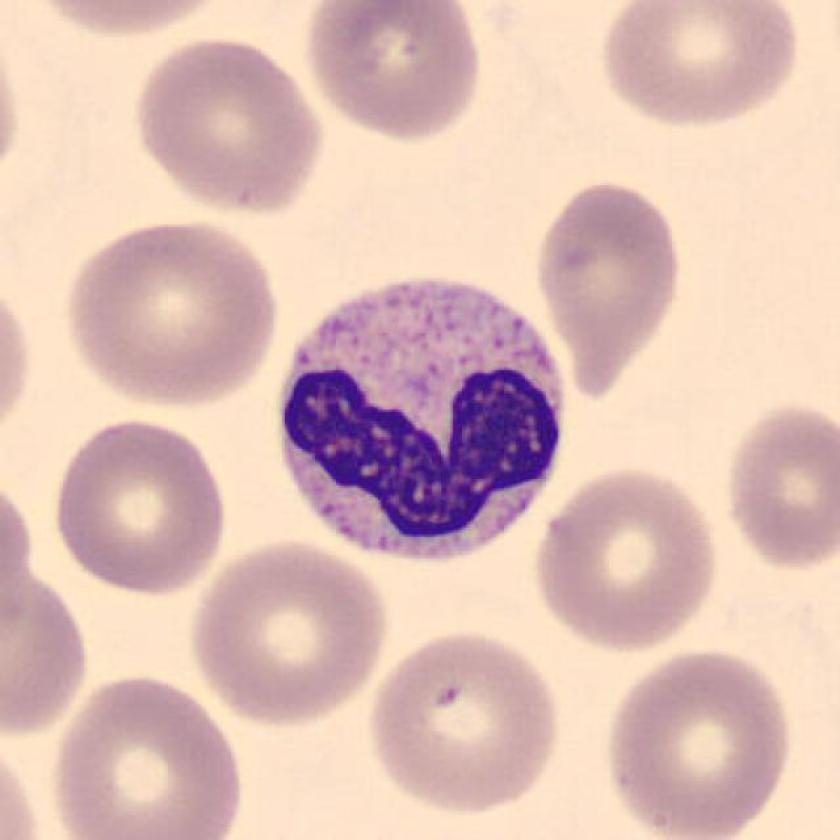neutrophil: (279, 281, 567, 562)
